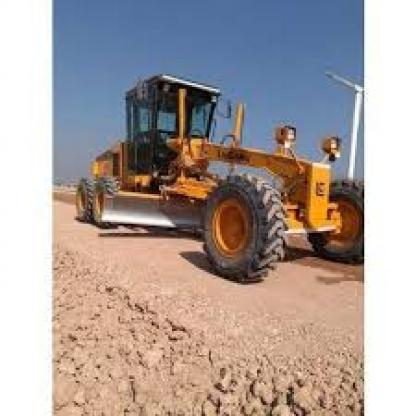bull_dozer/loader/grader: (65, 67, 392, 279)
